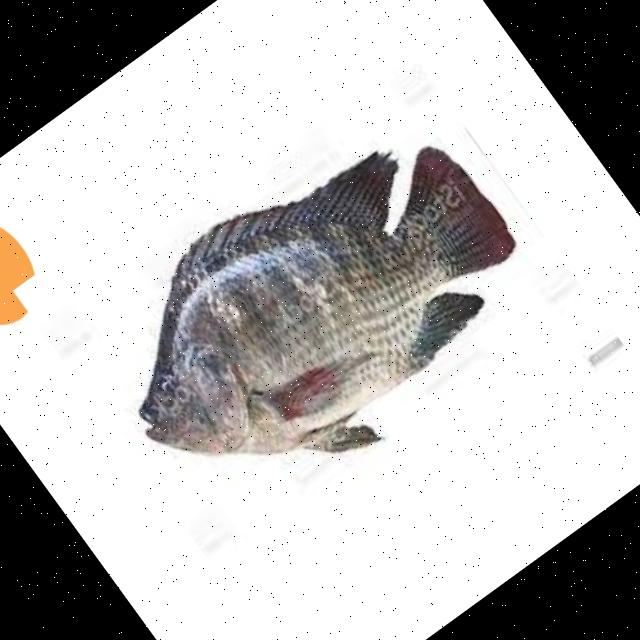ikan: (68, 80, 568, 550)
